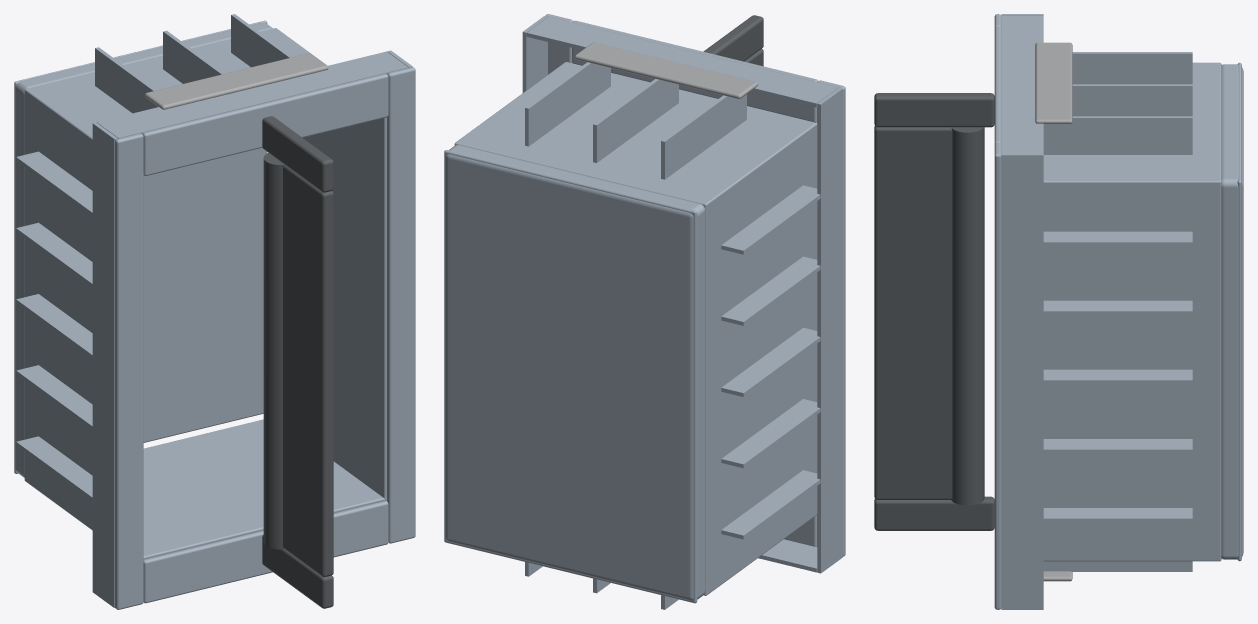
The model's file is Stock__ManualShelfSouth3__Tote002.glb.
3 renders of one model, left to right at view 1: azimuth 30°, elevation 25°; view 2: azimuth 150°, elevation 25°; view 3: azimuth 270°, elevation 25°, orthographic. The views are drawn at different scales.
Parts seen in each view (by area): view 1: /World/Stock/ManualShelfSouth3/Tote002/Visual/TotePolypropyl, /World/Stock/ManualShelfSouth3/Tote002/Visual/ToteRail, /World/Stock/ManualShelfSouth3/Tote002/Visual/PlasticGrey; view 2: /World/Stock/ManualShelfSouth3/Tote002/Visual/TotePolypropyl, /World/Stock/ManualShelfSouth3/Tote002/Visual/PlasticGrey, /World/Stock/ManualShelfSouth3/Tote002/Visual/ToteRail; view 3: /World/Stock/ManualShelfSouth3/Tote002/Visual/TotePolypropyl, /World/Stock/ManualShelfSouth3/Tote002/Visual/ToteRail, /World/Stock/ManualShelfSouth3/Tote002/Visual/PlasticGrey.
Part boxes in pixels (bbox=[...]): /World/Stock/ManualShelfSouth3/Tote002/Visual/TotePolypropyl: bbox=[14, 14, 415, 609]; /World/Stock/ManualShelfSouth3/Tote002/Visual/ToteRail: bbox=[262, 116, 333, 608]; /World/Stock/ManualShelfSouth3/Tote002/Visual/PlasticGrey: bbox=[144, 53, 328, 109]; /World/Stock/ManualShelfSouth3/Tote002/Visual/TotePolypropyl: bbox=[444, 14, 845, 609]; /World/Stock/ManualShelfSouth3/Tote002/Visual/PlasticGrey: bbox=[575, 42, 758, 99]; /World/Stock/ManualShelfSouth3/Tote002/Visual/ToteRail: bbox=[703, 15, 763, 66]; /World/Stock/ManualShelfSouth3/Tote002/Visual/TotePolypropyl: bbox=[994, 14, 1243, 609]; /World/Stock/ManualShelfSouth3/Tote002/Visual/ToteRail: bbox=[874, 93, 994, 530]; /World/Stock/ManualShelfSouth3/Tote002/Visual/PlasticGrey: bbox=[1035, 42, 1072, 581].
Bounding box in the file's own units: 0.198 × 0.301 × 0.218.
